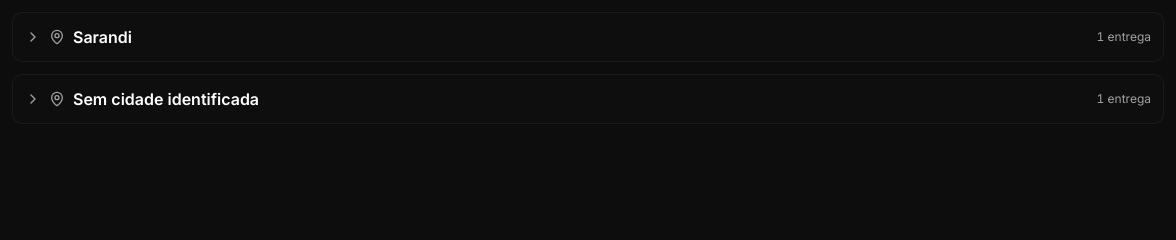
Test: Cidade → tipos de entregáveis › mantém as peças sem cidade em um bloco separado quando há cidades
The image size is (1176, 240).
Click the button "Sem cidade identificada 1 entrega": (166, 99) [12,74,1164,124]
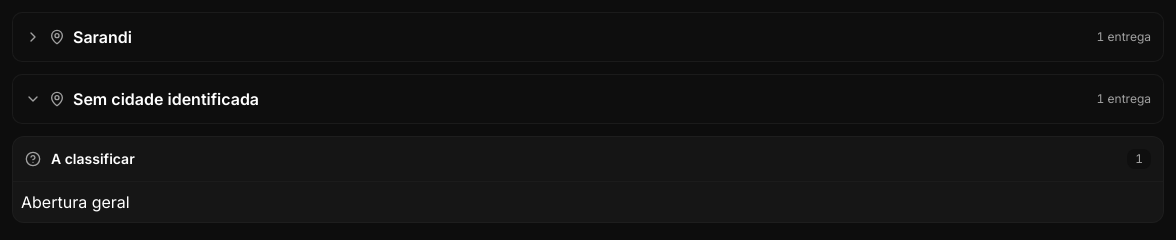
Now the text "Abertura geral" is shown, box [21,192,130,212]
